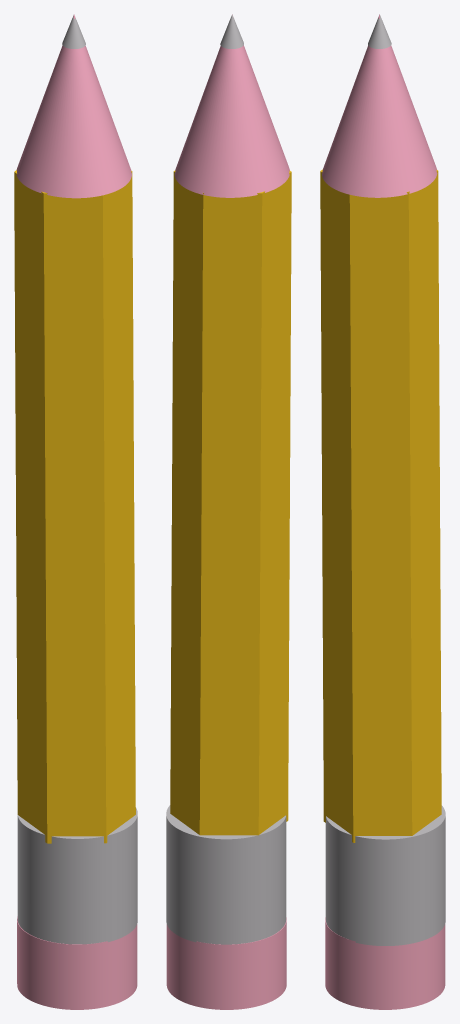
The model's file is pencil.fbx.
3 views of the same model, side by side, from view 1: azimuth 30°, elevation 25°; view 2: azimuth 150°, elevation 25°; view 3: azimuth 330°, elevation 25° (orthographic).
Visible parts, largest first — view 1: root (×5); view 2: root (×5); view 3: root (×5).
Boxes of the visible parts, bbox=[...] form: root (×5): bbox=[14, 14, 137, 1009]; root (×5): bbox=[166, 14, 291, 1009]; root (×5): bbox=[320, 14, 445, 1009].
Size of the model in its own units: 0.0801 by 0.6992 by 0.0797.
5 materials, 4 textured.
